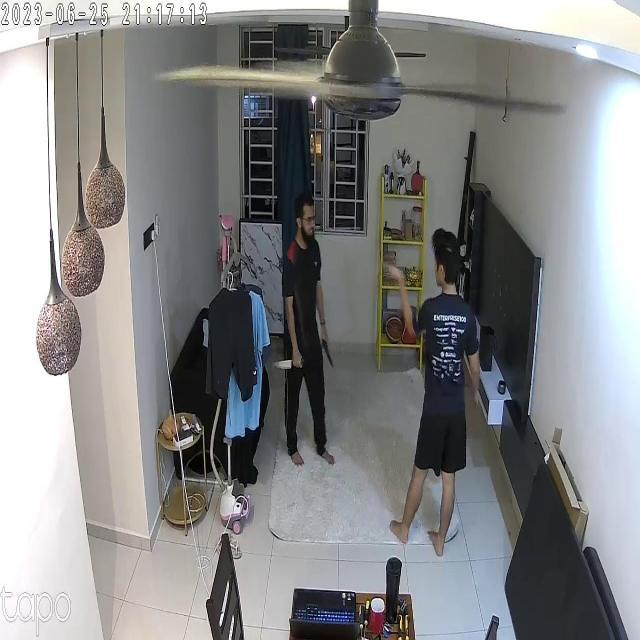Knife: (268, 349, 308, 380)
